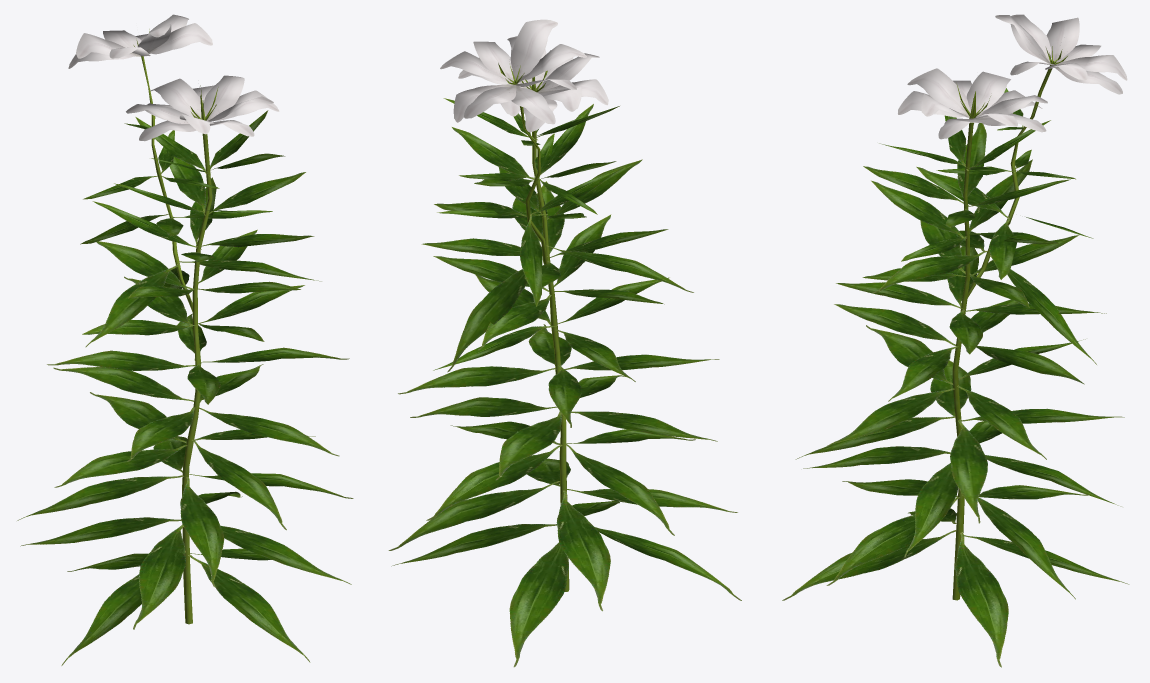
File: kazablanka.glb
The picture shows the model from 3 angles, left to right: view 1: azimuth 30°, elevation 25°; view 2: azimuth 150°, elevation 25°; view 3: azimuth 270°, elevation 25°; orthographic projection.
Parts seen in each view (by area): view 1: Object_4, Object_3, Object_5; view 2: Object_4, Object_3, Object_5; view 3: Object_4, Object_3, Object_5.
Boxes of the visible parts, x1,y1,x2,y2 form: Object_4: (17, 110, 353, 665); Object_3: (68, 14, 279, 141); Object_5: (133, 29, 218, 624); Object_4: (388, 86, 741, 667); Object_3: (440, 19, 608, 132); Object_5: (498, 63, 569, 591); Object_4: (782, 88, 1129, 667); Object_3: (898, 14, 1127, 139); Object_5: (952, 46, 1067, 600).
Size of the model in its own units: 2.19 by 4.04 by 2.25.
4 materials, 3 textured.
